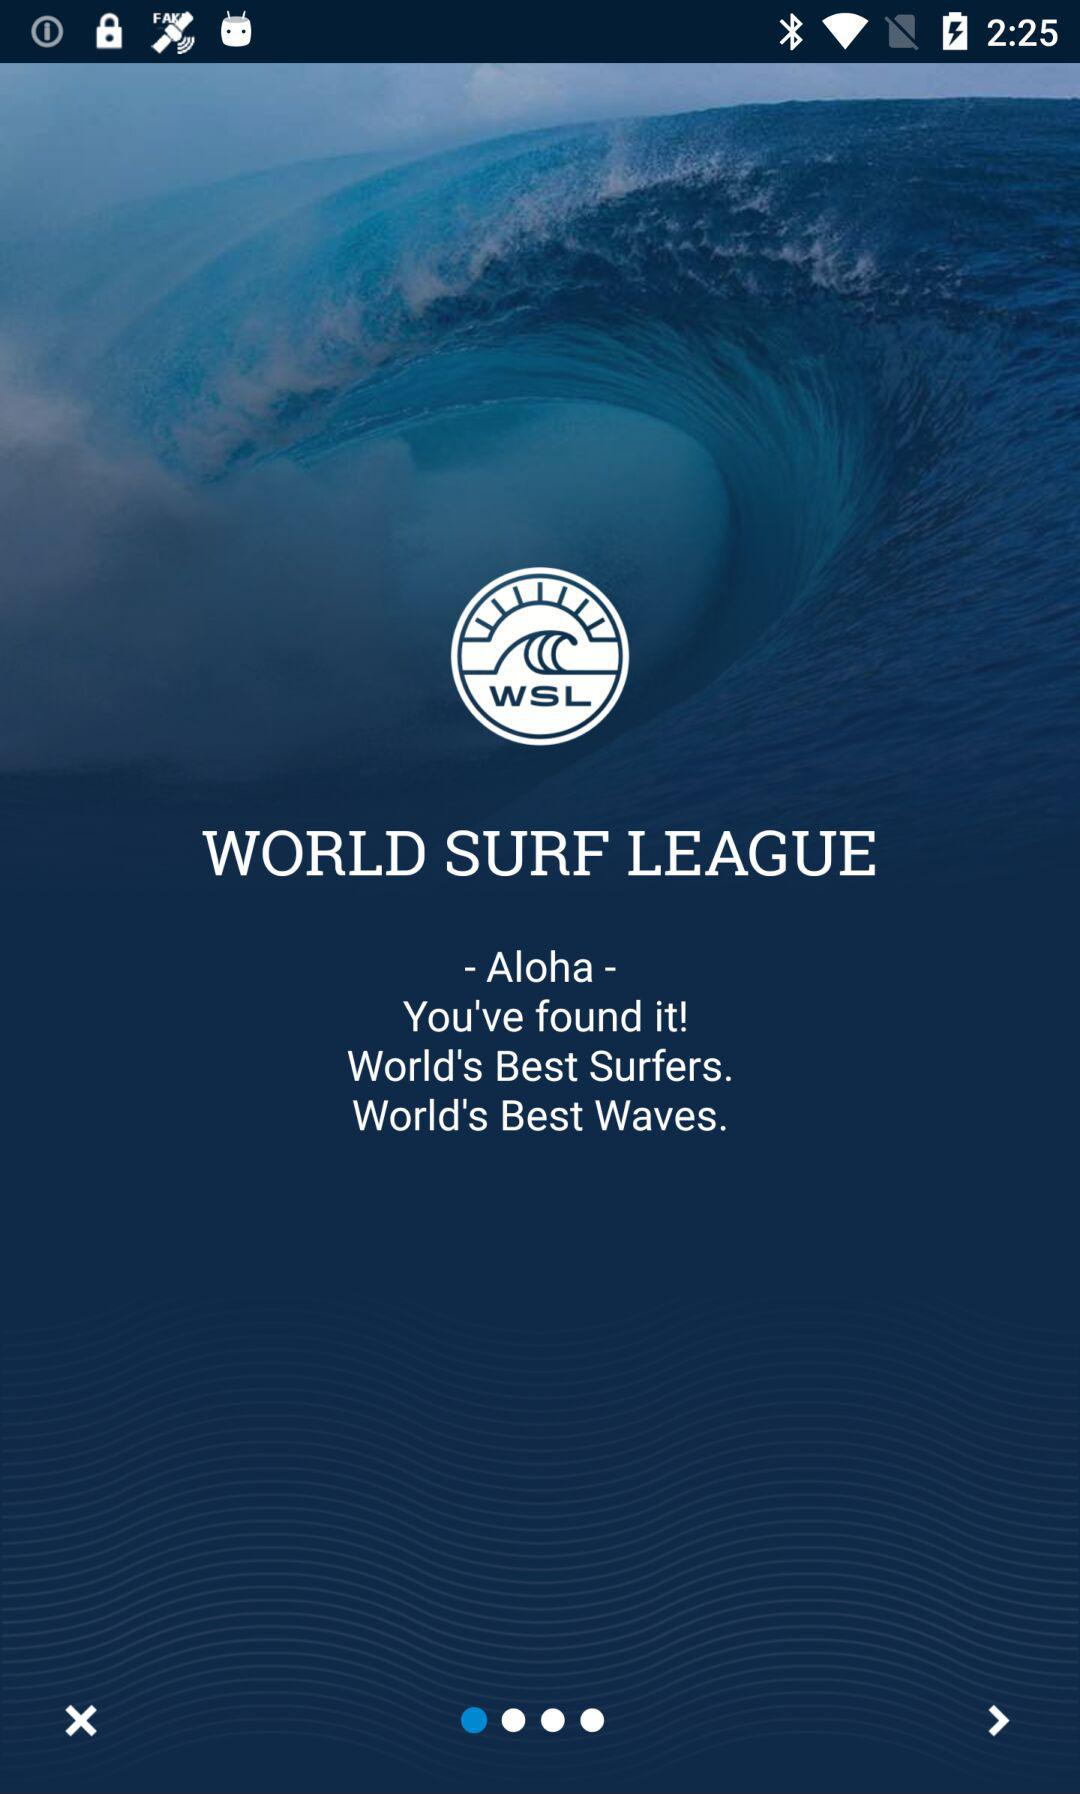BackgroundImage: (1, 64, 1080, 1794)
Icon: (65, 1704, 99, 1738), (986, 1704, 1011, 1738)
Image: (450, 565, 632, 748)
PageIndicator: (459, 1706, 606, 1736)
Text: (346, 950, 732, 1133), (202, 830, 876, 878)
UpperTaskBar: (1, 1, 1080, 64)
